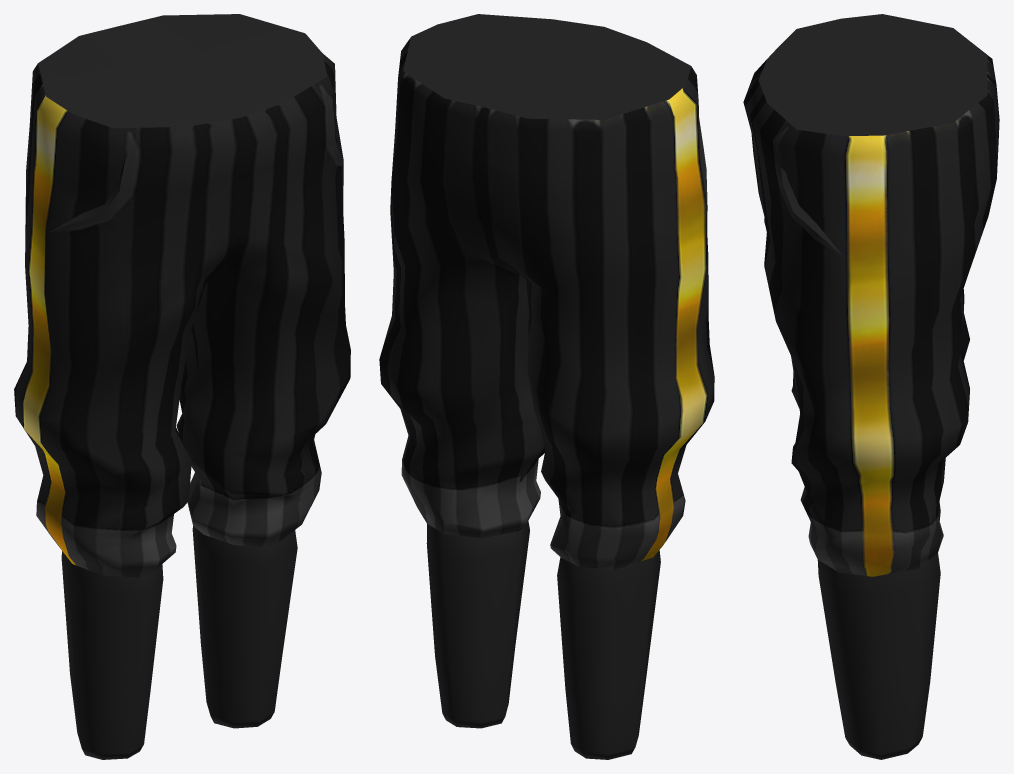
File: omd-pants.glb
3 renders of one model, left to right at view 1: azimuth 30°, elevation 25°; view 2: azimuth 150°, elevation 25°; view 3: azimuth 270°, elevation 25°, orthographic. The views are drawn at different scales.
Parts seen in each view (by area): view 1: M_golfcraft_pants.001; view 2: M_golfcraft_pants.001; view 3: M_golfcraft_pants.001.
Part boxes in pixels (x1,y1,x2,y2): M_golfcraft_pants.001: (14,14,350,759); M_golfcraft_pants.001: (379,14,714,759); M_golfcraft_pants.001: (743,14,999,759).
Size of the model in its own units: 0.8315 by 1.74 by 0.6287.
1 material, 1 textured.
